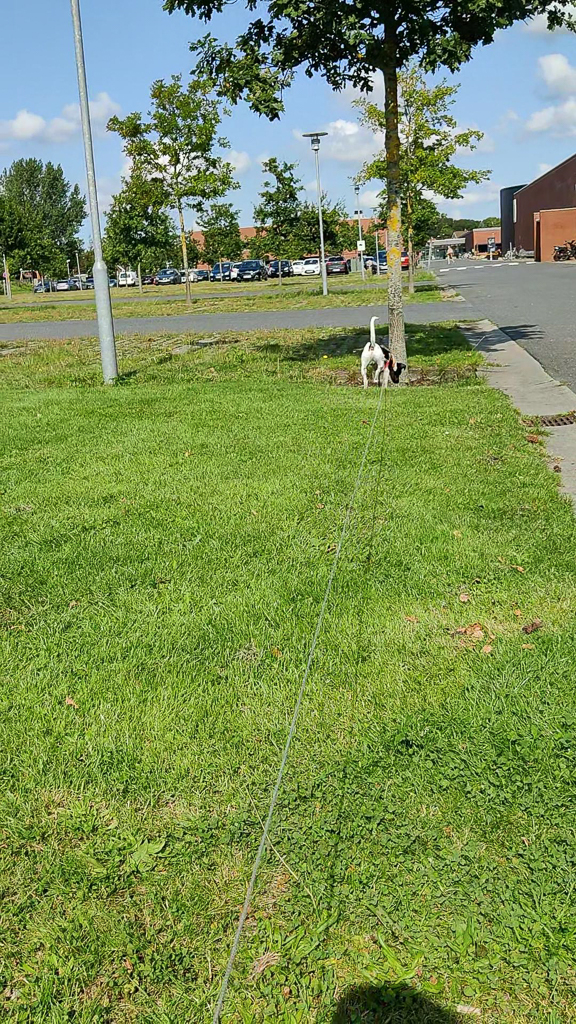Dog: (351, 314, 410, 392)
